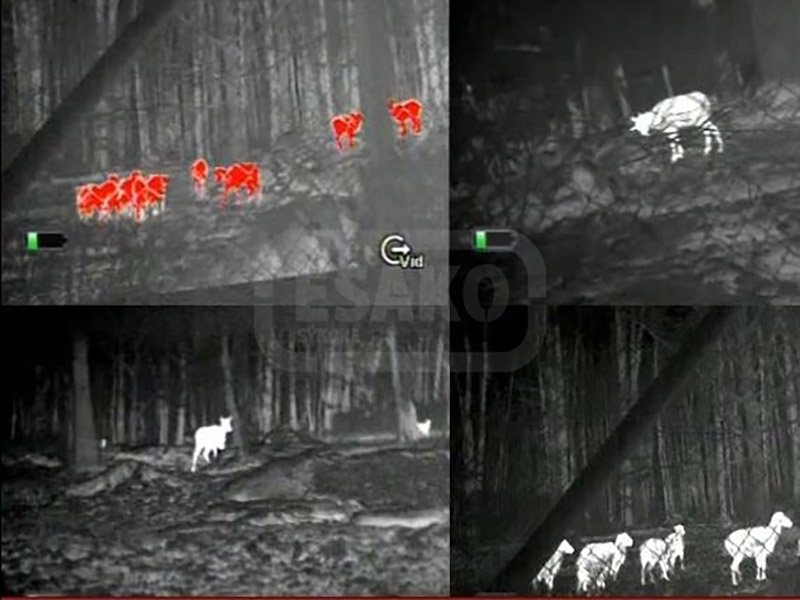cervo: (639, 83, 731, 165), (715, 500, 797, 590), (176, 403, 240, 479), (514, 530, 574, 596), (634, 522, 693, 588), (579, 526, 639, 588), (218, 149, 265, 210), (386, 98, 426, 143), (332, 109, 366, 157)
